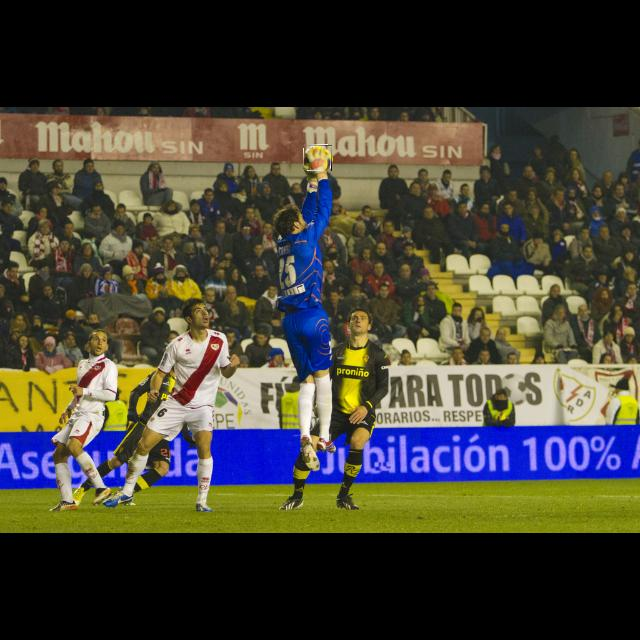Football: (304, 145, 332, 171)
